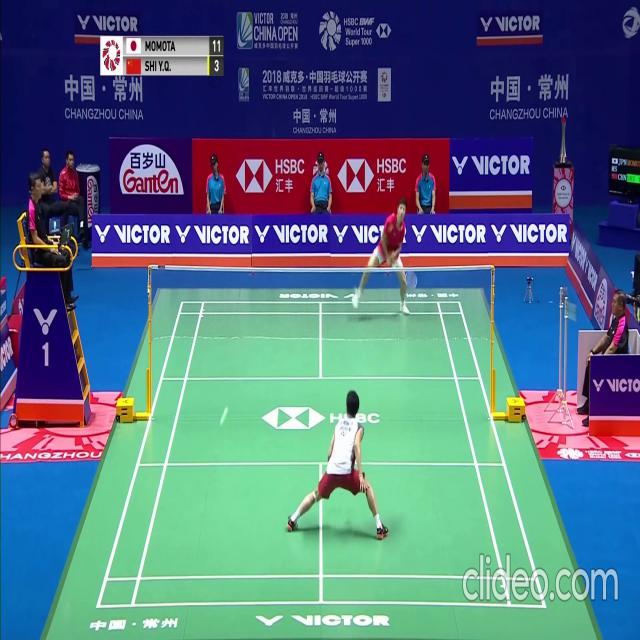Shuttlecock: (219, 417, 224, 424)
